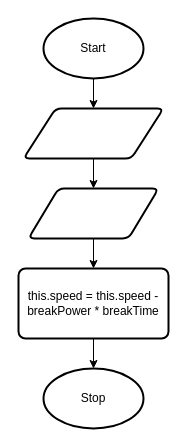
The diagram is 186 pixels wide and 446 high, and some of its shapes have lost their labels. The box of each missing label's shape, as (x1, y1, x2, y2) in pixels:
get breakPower: (22, 107, 164, 159)
get breakTime: (27, 187, 159, 239)
